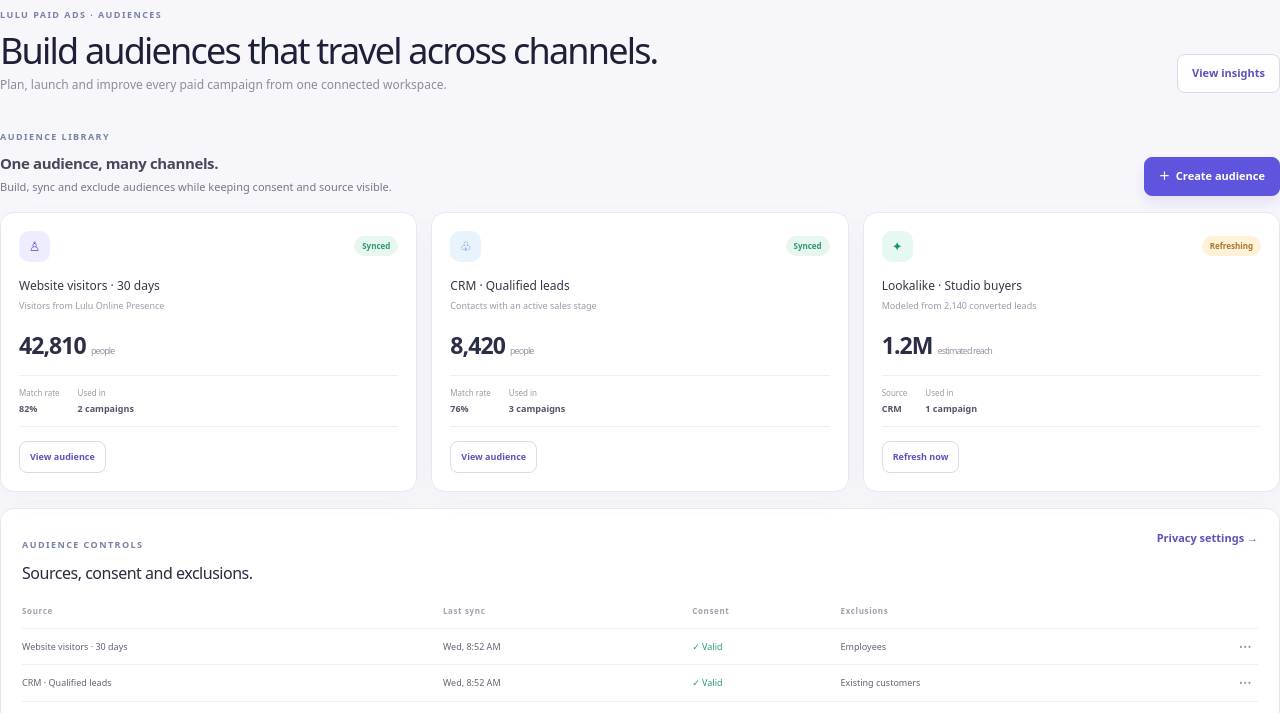
Test: Audiences › refreshes a syncing audience
Click the button "Refresh now".
click(921, 457)  # box 882,442 -> 959,473
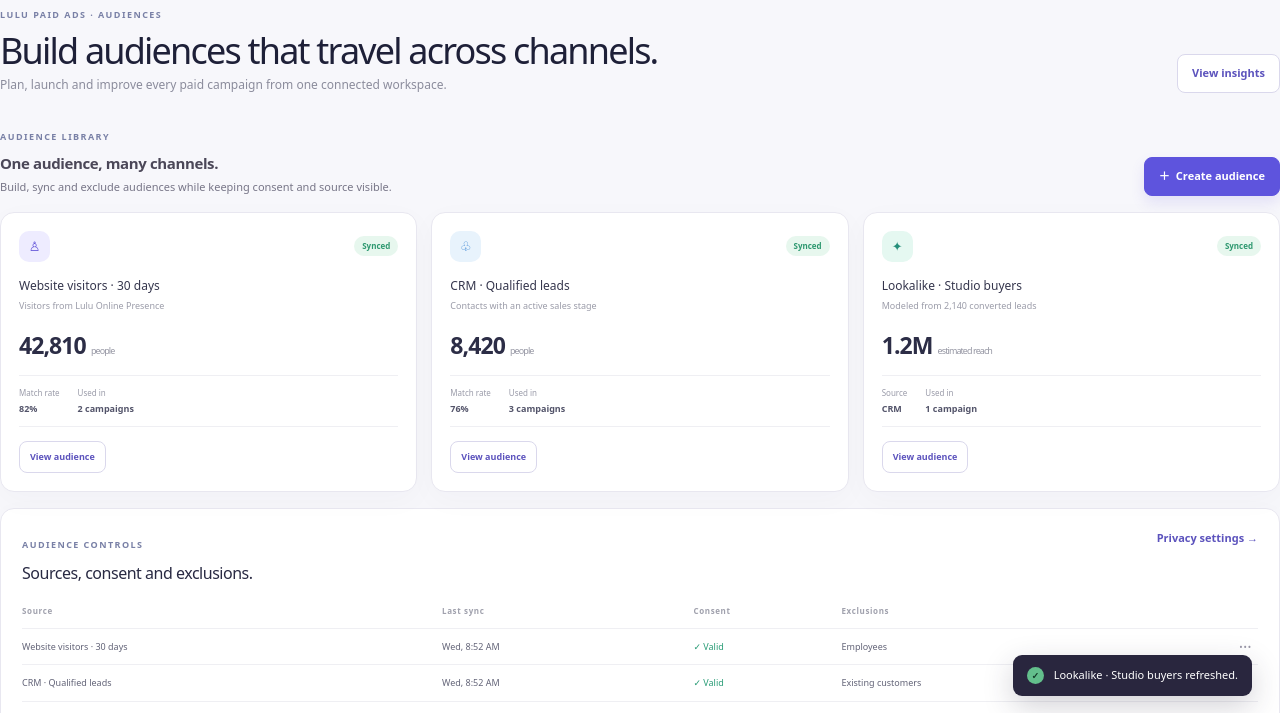
Check: the text "Lookalike · Studio buyers refreshed." is shown, box 1054,667 -> 1238,682
Check: the button "Refresh now" is gone
